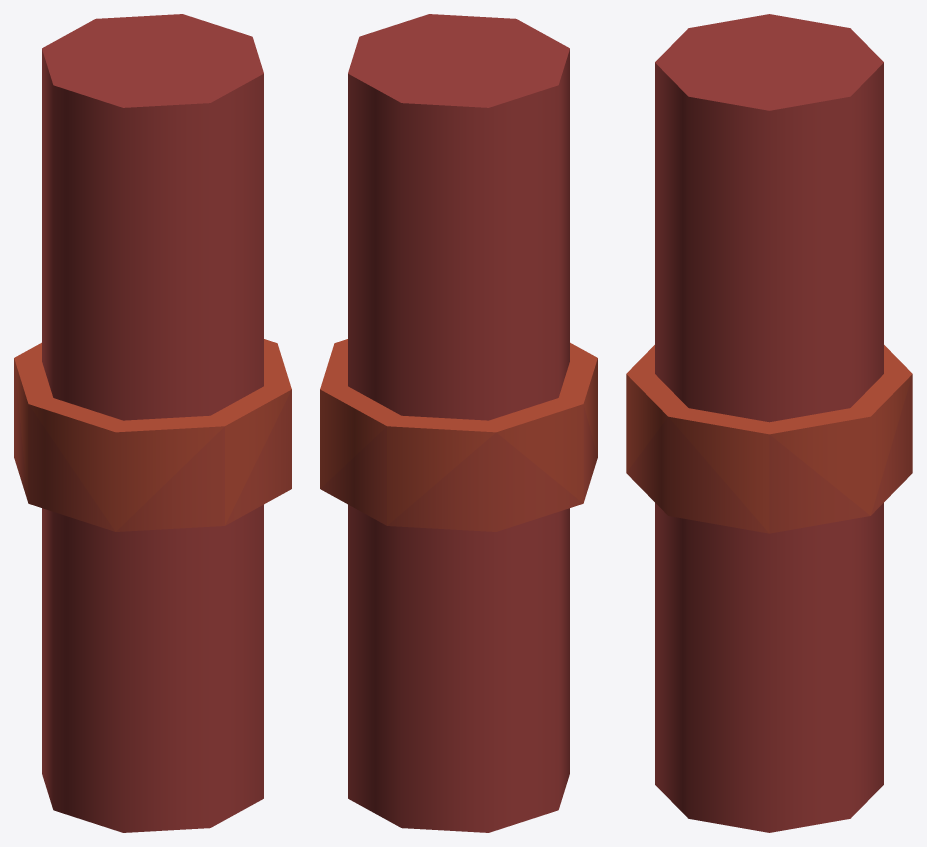
The model's file is coaster_support_small.glb.
The picture shows the model from 3 angles, left to right: view 1: azimuth 30°, elevation 25°; view 2: azimuth 150°, elevation 25°; view 3: azimuth 270°, elevation 25°; orthographic projection.
Visible parts, largest first — view 1: coaster_support_small; view 2: coaster_support_small; view 3: coaster_support_small.
Boxes of the visible parts, x1,y1,x2,y2 form: coaster_support_small: (14,14,291,832); coaster_support_small: (320,14,597,832); coaster_support_small: (626,14,912,832).
Bounding box in the file's own units: 0.3596 × 1 × 0.3596.
